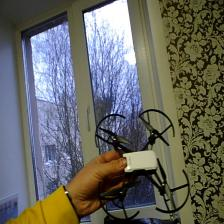drone: (93, 106, 193, 224)
